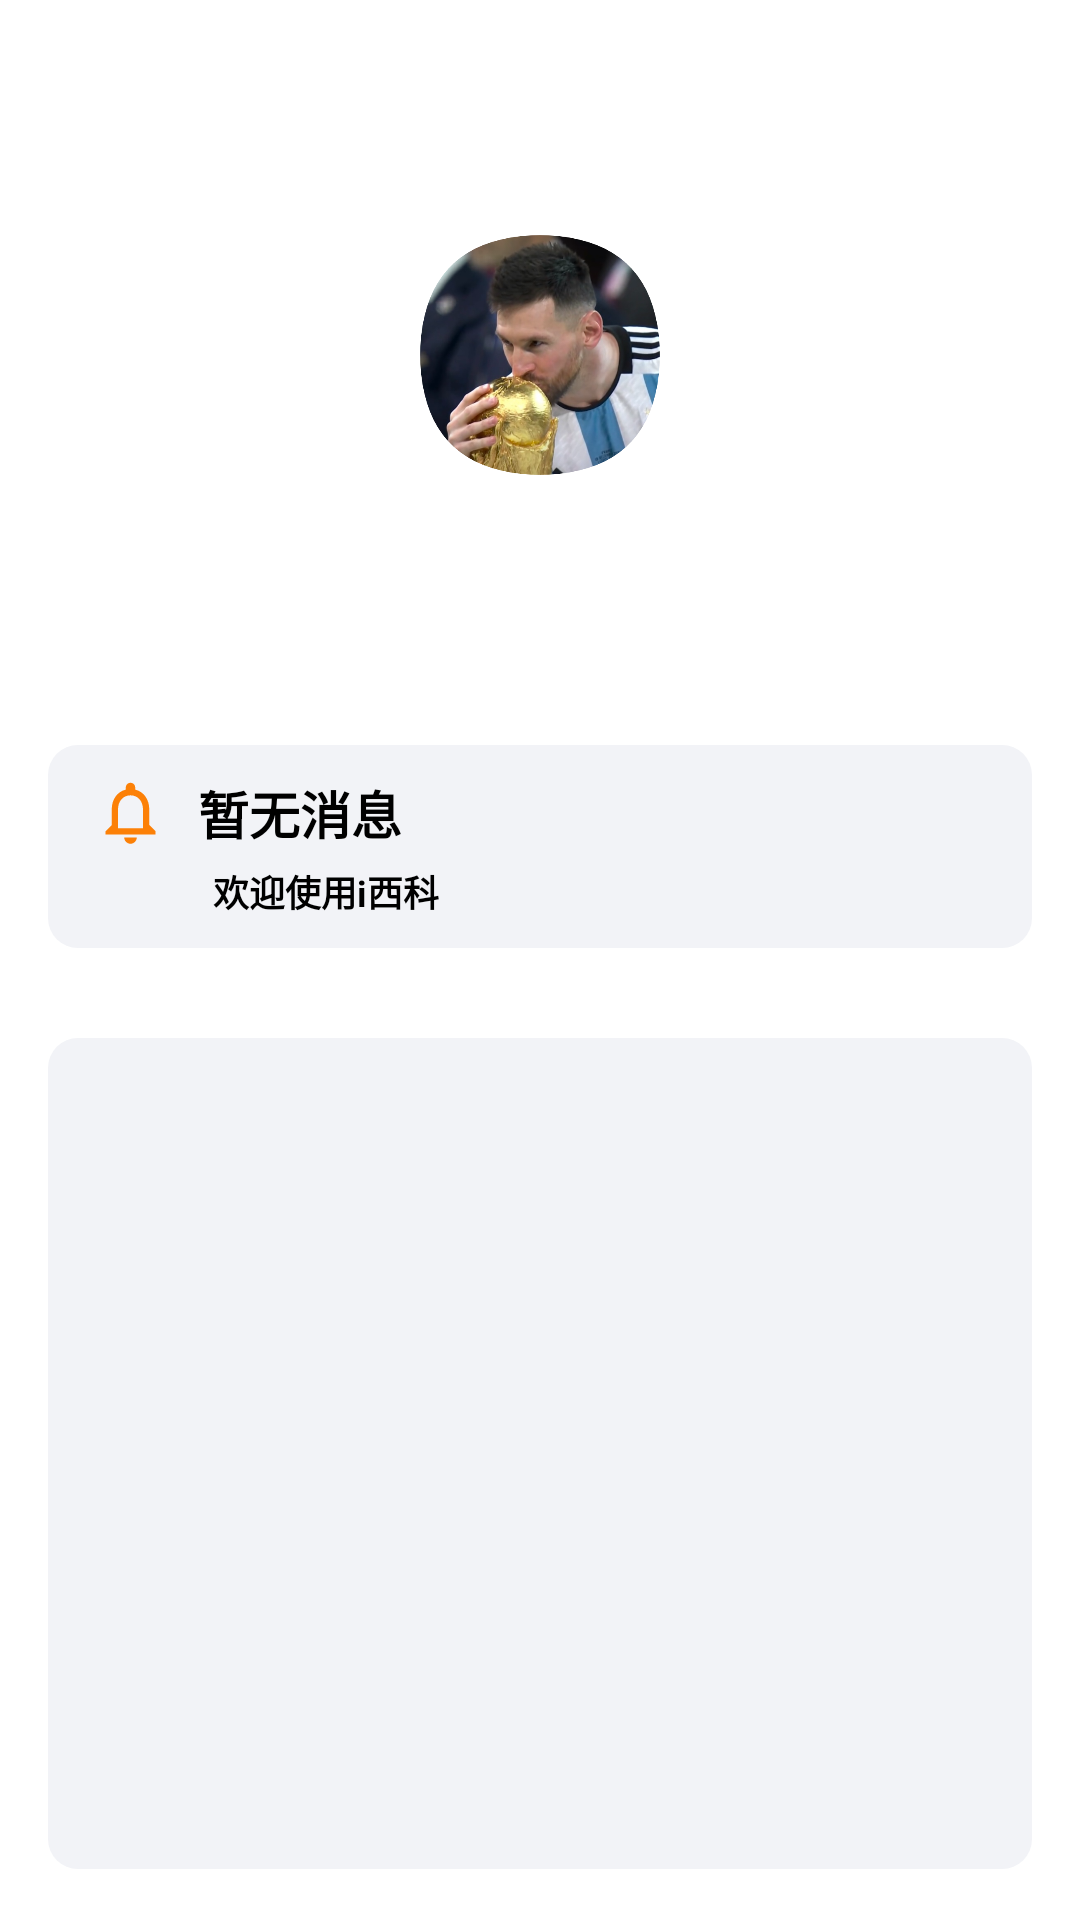

Locate icon controls on the screen. Image size 1080w x 1920h, boxes as (x1, y1, x2, y2).
notice: (105, 782, 156, 844)
